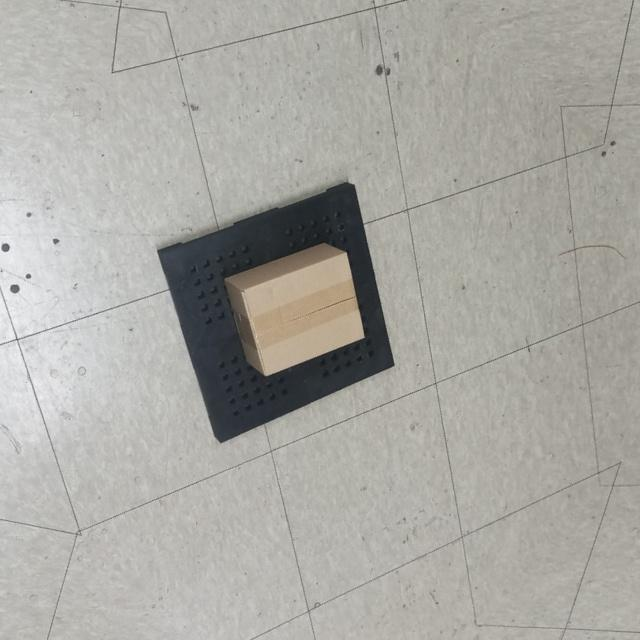box: (220, 240, 372, 382)
pallet: (154, 178, 402, 450)
